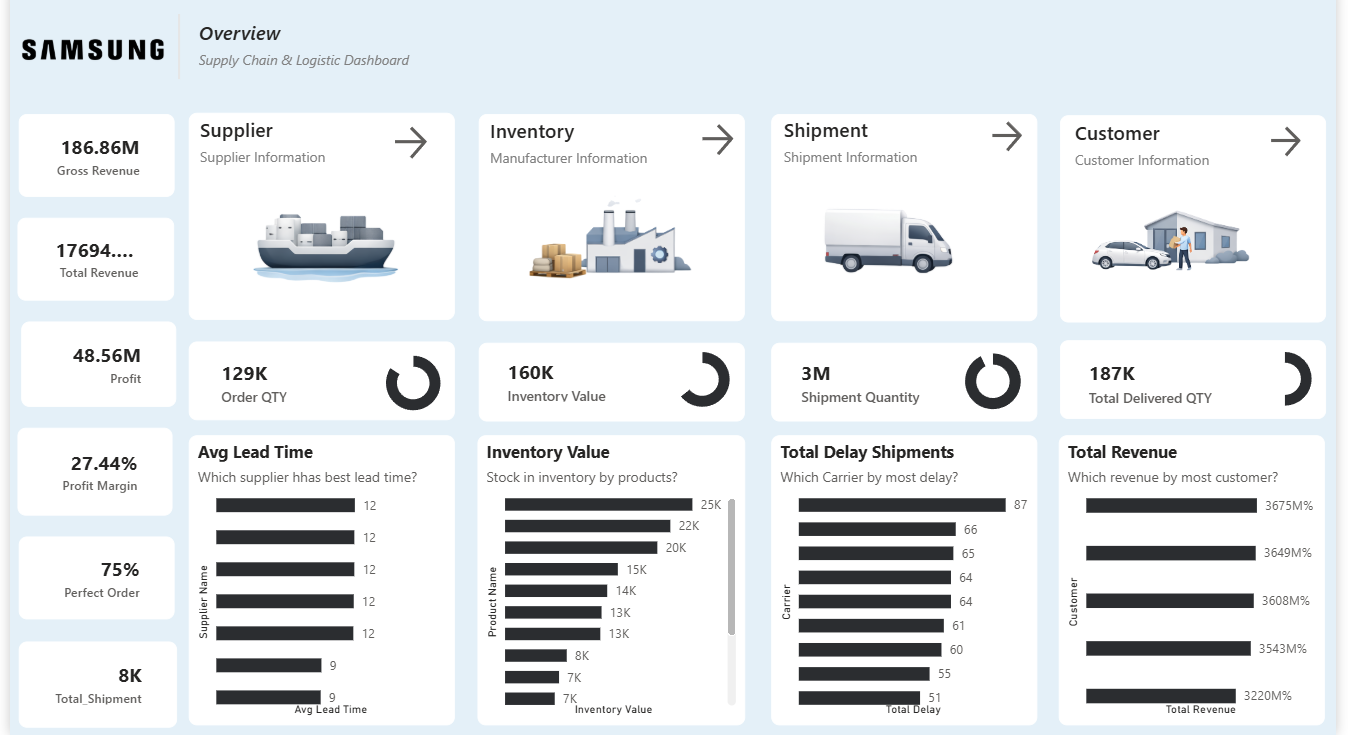

This screenshot's page, from the dashboard's own definition file:
{"tool":"powerbi","page":{"name":"Overview","canvas":[1280,720],"ordinal":1},"visuals":[{"type":"shape","box":[744.6,123.1,257,200],"z":0},{"type":"shape","box":[1023.1,124,257,200],"z":1000},{"type":"shape","box":[462.2,122.8,257,200],"z":2000},{"type":"shape","box":[182.9,121.4,257.1,200],"z":3000},{"type":"image","box":[230,180,162.9,130],"z":4000},{"type":"image","box":[494.3,174.3,180,131.4],"z":5000},{"type":"image","box":[785.2,180.3,142.7,120.8],"z":6000},{"type":"image","box":[1047.8,173.4,172.9,138.6],"z":7000},{"type":"actionButton","box":[375.2,130.3,48.3,41],"z":8000},{"type":"actionButton","box":[1220.9,130.3,43.4,38.6],"z":9000},{"type":"actionButton","box":[952.9,125.7,38.6,38.6],"z":10000},{"type":"actionButton","box":[672.9,128.6,47.1,40],"z":11000},{"type":"shape","title":"Supplier","box":[192.9,125.7,155.7,58.6],"z":12000},{"type":"shape","title":"Customer","box":[1037.4,128.1,145.5,57.6],"z":13000},{"type":"shape","title":"Shipment","box":[756.3,125.1,141.3,57.6],"z":14000},{"type":"shape","title":"Inventory","box":[473.2,127,163.3,57.6],"z":15000},{"type":"shape","title":"Overview","box":[182.5,28.8,215.4,59],"z":16000},{"type":"shape","box":[134.3,24.3,58.6,62.9],"z":17000},{"type":"image","box":[11,19.2,138.6,78.2],"z":18000},{"type":"cardVisual","fields":{"Data":["Sum(fact_sales.gross_revenue)"]},"box":[11.4,121.4,150,80],"z":19000},{"type":"cardVisual","fields":{"Data":["MeasuresTable.Total_revenue"]},"box":[10.9,221.9,150.8,79.6],"z":20000},{"type":"cardVisual","fields":{"Data":["MeasuresTable.Profit"]},"box":[14.5,322,149.6,82],"z":21000},{"type":"cardVisual","fields":{"Data":["MeasuresTable.Profit Margin %"]},"box":[10.9,424.6,149.6,84.5],"z":22000},{"type":"cardVisual","fields":{"Data":["MeasuresTable.Perfect Order"]},"box":[11.4,529.5,150,80],"z":23000},{"type":"cardVisual","fields":{"Data":["MeasuresTable.Total_Shipment"]},"box":[11.4,630,152.9,82.9],"z":24000},{"type":"shape","box":[182.8,342.4,257.1,75.7],"z":25000},{"type":"shape","box":[462.8,343.3,257.1,75.7],"z":26000},{"type":"shape","box":[744.2,343.8,257.1,75.7],"z":27000},{"type":"shape","box":[1023.1,341.4,257,76],"z":28000},{"type":"cardVisual","fields":{"Data":["MeasuresTable.Order QTY"]},"box":[184.6,343.8,164.1,76],"z":29000},{"type":"cardVisual","fields":{"Data":["MeasuresTable.Inventory_Value"]},"box":[460.9,343.8,164.1,74.8],"z":30000},{"type":"cardVisual","fields":{"Data":["MeasuresTable.Total Shipment Quantity"]},"box":[744.4,343.8,183.4,77.2],"z":31000},{"type":"cardVisual","fields":{"Data":["MeasuresTable.Total Delivered QTY"]},"box":[1022.9,345.7,194.3,75.7],"z":32000},{"type":"clusteredBarChart","title":"Avg Lead Time ","fields":{"Y":["MeasuresTable.Avg_Lead_Time"],"Category":["dim_supplier.supplier_name"]},"box":[182.9,432.9,257.1,280],"z":33000},{"type":"clusteredBarChart","title":"Inventory Value ","fields":{"Y":["MeasuresTable.Inventory_Value"],"Category":["dim_product.product_name"]},"box":[461.4,432.9,258.6,280],"z":34000},{"type":"clusteredBarChart","title":"Total Delay Shipments","fields":{"Y":["MeasuresTable.Total Delay"],"Category":["fact_shipment.carrier"]},"box":[744.3,432.9,257.1,280],"z":35000},{"type":"clusteredBarChart","title":"Total Revenue","fields":{"Y":["MeasuresTable.Total_revenue"],"Category":["dim_customer.customer_name"]},"box":[1022.9,432.9,257.1,280],"z":36000},{"type":"donutChart","fields":{"Y":["MeasuresTable.Inventory_Value","MeasuresTable.Safety Stock"]},"box":[635.8,341.4,84.5,76],"z":37000},{"type":"donutChart","fields":{"Y":["MeasuresTable.Total_Shipment","MeasuresTable.Total Delay"]},"box":[915.7,342.6,85.7,77.2],"z":38000},{"type":"donutChart","fields":{"Y":["MeasuresTable.Total Delay QTY","MeasuresTable.Total Delivered QTY"]},"box":[1200.4,341.4,79.6,74.8],"z":39000},{"type":"donutChart","fields":{"Y":["MeasuresTable.Order QTY","MeasuresTable.Defect Rate"]},"box":[358.6,345.7,81.4,75.7],"z":40000}]}

Visuals, with their boxes on the page's 1280x720 design canvas (x1, y1, x2, y2). These are canvas units, not pixel positions in the 1348x735 screenshot, which may show the page scaled, cropped or inside an application window:
shape: {"left": 745, "top": 123, "right": 1002, "bottom": 323}
shape: {"left": 1023, "top": 124, "right": 1280, "bottom": 324}
shape: {"left": 462, "top": 123, "right": 719, "bottom": 323}
shape: {"left": 183, "top": 121, "right": 440, "bottom": 321}
image: {"left": 230, "top": 180, "right": 393, "bottom": 310}
image: {"left": 494, "top": 174, "right": 674, "bottom": 306}
image: {"left": 785, "top": 180, "right": 928, "bottom": 301}
image: {"left": 1048, "top": 173, "right": 1221, "bottom": 312}
actionButton: {"left": 375, "top": 130, "right": 424, "bottom": 171}
actionButton: {"left": 1221, "top": 130, "right": 1264, "bottom": 169}
actionButton: {"left": 953, "top": 126, "right": 992, "bottom": 164}
actionButton: {"left": 673, "top": 129, "right": 720, "bottom": 169}
"Supplier" shape: {"left": 193, "top": 126, "right": 349, "bottom": 184}
"Customer" shape: {"left": 1037, "top": 128, "right": 1183, "bottom": 186}
"Shipment" shape: {"left": 756, "top": 125, "right": 898, "bottom": 183}
"Inventory" shape: {"left": 473, "top": 127, "right": 636, "bottom": 185}
"Overview" shape: {"left": 182, "top": 29, "right": 398, "bottom": 88}
shape: {"left": 134, "top": 24, "right": 193, "bottom": 87}
image: {"left": 11, "top": 19, "right": 150, "bottom": 97}
cardVisual - Sum(fact_sales.gross_revenue): {"left": 11, "top": 121, "right": 161, "bottom": 201}
cardVisual - MeasuresTable.Total_revenue: {"left": 11, "top": 222, "right": 162, "bottom": 302}
cardVisual - MeasuresTable.Profit: {"left": 14, "top": 322, "right": 164, "bottom": 404}
cardVisual - MeasuresTable.Profit Margin %: {"left": 11, "top": 425, "right": 160, "bottom": 509}
cardVisual - MeasuresTable.Perfect Order: {"left": 11, "top": 530, "right": 161, "bottom": 610}
cardVisual - MeasuresTable.Total_Shipment: {"left": 11, "top": 630, "right": 164, "bottom": 713}
shape: {"left": 183, "top": 342, "right": 440, "bottom": 418}
shape: {"left": 463, "top": 343, "right": 720, "bottom": 419}
shape: {"left": 744, "top": 344, "right": 1001, "bottom": 420}
shape: {"left": 1023, "top": 341, "right": 1280, "bottom": 417}
cardVisual - MeasuresTable.Order QTY: {"left": 185, "top": 344, "right": 349, "bottom": 420}
cardVisual - MeasuresTable.Inventory_Value: {"left": 461, "top": 344, "right": 625, "bottom": 419}
cardVisual - MeasuresTable.Total Shipment Quantity: {"left": 744, "top": 344, "right": 928, "bottom": 421}
cardVisual - MeasuresTable.Total Delivered QTY: {"left": 1023, "top": 346, "right": 1217, "bottom": 421}
"Avg Lead Time " clusteredBarChart: {"left": 183, "top": 433, "right": 440, "bottom": 713}
"Inventory Value " clusteredBarChart: {"left": 461, "top": 433, "right": 720, "bottom": 713}
"Total Delay Shipments" clusteredBarChart: {"left": 744, "top": 433, "right": 1001, "bottom": 713}
"Total Revenue" clusteredBarChart: {"left": 1023, "top": 433, "right": 1280, "bottom": 713}
donutChart - MeasuresTable.Inventory_Value x MeasuresTable.Safety Stock: {"left": 636, "top": 341, "right": 720, "bottom": 417}
donutChart - MeasuresTable.Total_Shipment x MeasuresTable.Total Delay: {"left": 916, "top": 343, "right": 1001, "bottom": 420}
donutChart - MeasuresTable.Total Delay QTY x MeasuresTable.Total Delivered QTY: {"left": 1200, "top": 341, "right": 1280, "bottom": 416}
donutChart - MeasuresTable.Order QTY x MeasuresTable.Defect Rate: {"left": 359, "top": 346, "right": 440, "bottom": 421}
